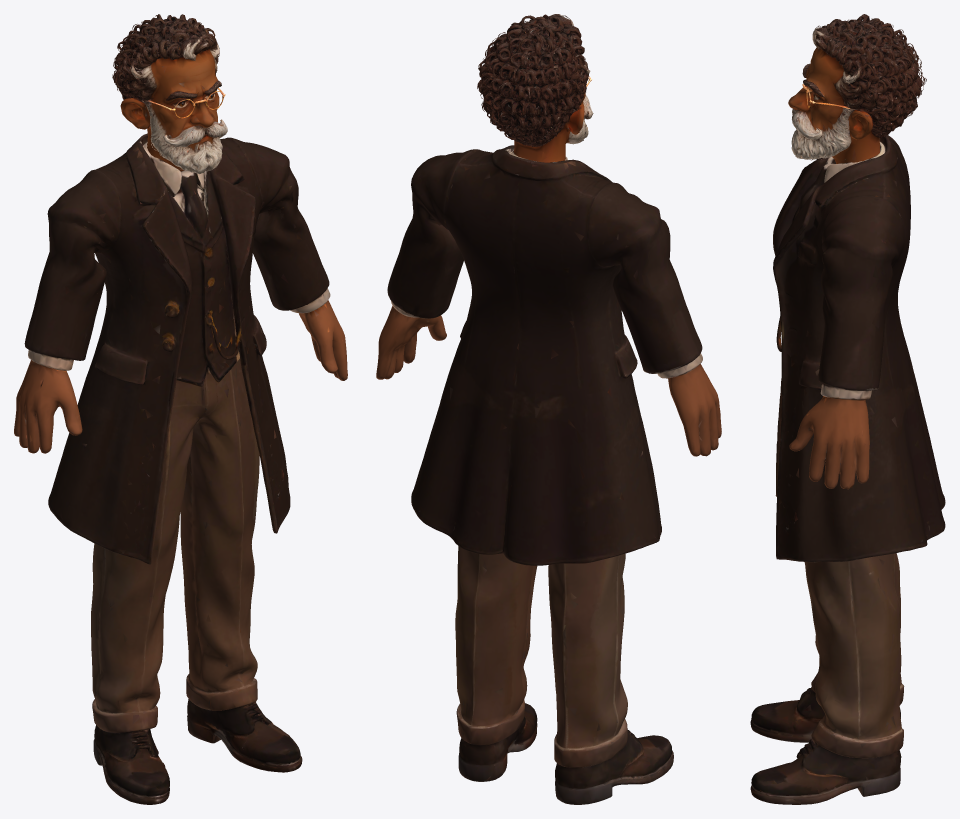
The model's file is machado.glb.
3 renders of one model, left to right at view 1: azimuth 30°, elevation 25°; view 2: azimuth 150°, elevation 25°; view 3: azimuth 270°, elevation 25°, orthographic. The views are drawn at different scales.
Parts seen in each view (by area): view 1: geometry_0, geometry_0.001; view 2: geometry_0, geometry_0.001; view 3: geometry_0, geometry_0.001.
Boxes of the visible parts, bbox=[...] form: geometry_0: bbox=[14, 133, 347, 804]; geometry_0.001: bbox=[112, 14, 227, 174]; geometry_0: bbox=[376, 145, 721, 804]; geometry_0.001: bbox=[477, 14, 593, 162]; geometry_0: bbox=[750, 135, 945, 804]; geometry_0.001: bbox=[788, 14, 926, 163].
Size of the model in its own units: 1.02 by 2.26 by 0.5373.
2 materials, 2 textured.
